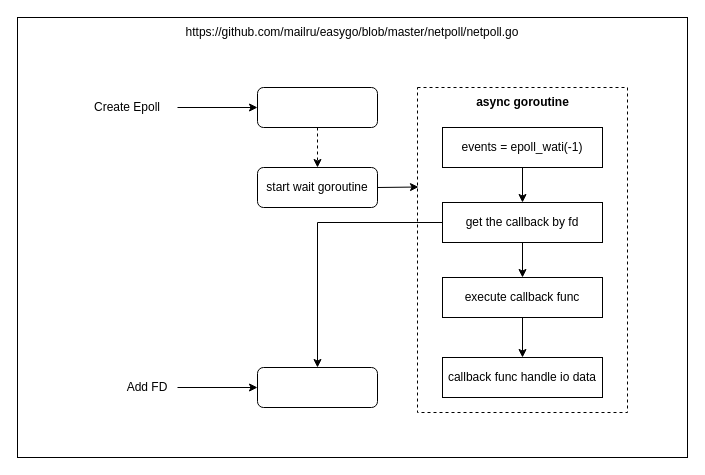
This 705x475 diagram has some shape labels left out. The centre of each missing label's shape, as x and y in pixels:
"map<fd,callback>" belongs at point 317,387.
"syscall.epoll_create" belongs at point 317,107.
